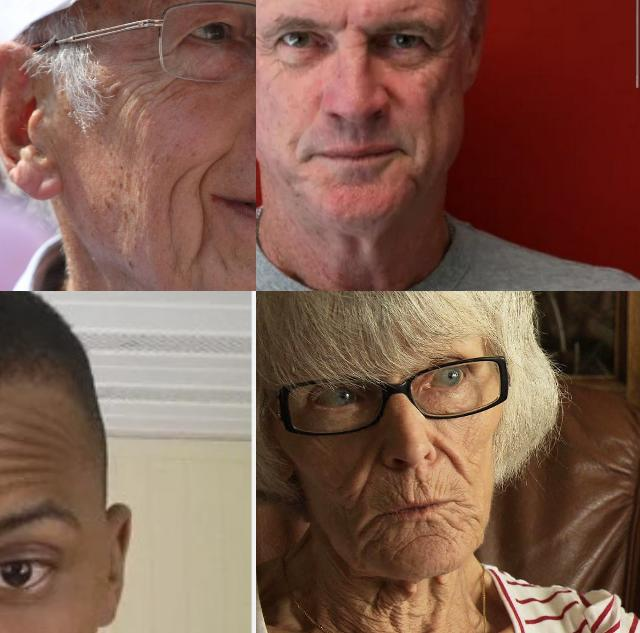chin: (403, 525, 455, 555), (214, 248, 232, 274)
crows_feet: (139, 41, 173, 67), (430, 35, 452, 59), (256, 29, 272, 53)
forehead: (22, 428, 58, 487)
frown_line: (337, 14, 355, 34)
gummy_smile: (430, 440, 470, 482), (354, 456, 378, 506), (207, 138, 233, 170)
masseter: (163, 169, 187, 227)
sad_smile: (192, 170, 212, 254), (352, 515, 380, 549), (456, 501, 484, 525)
smoker_lines: (392, 478, 432, 500)
